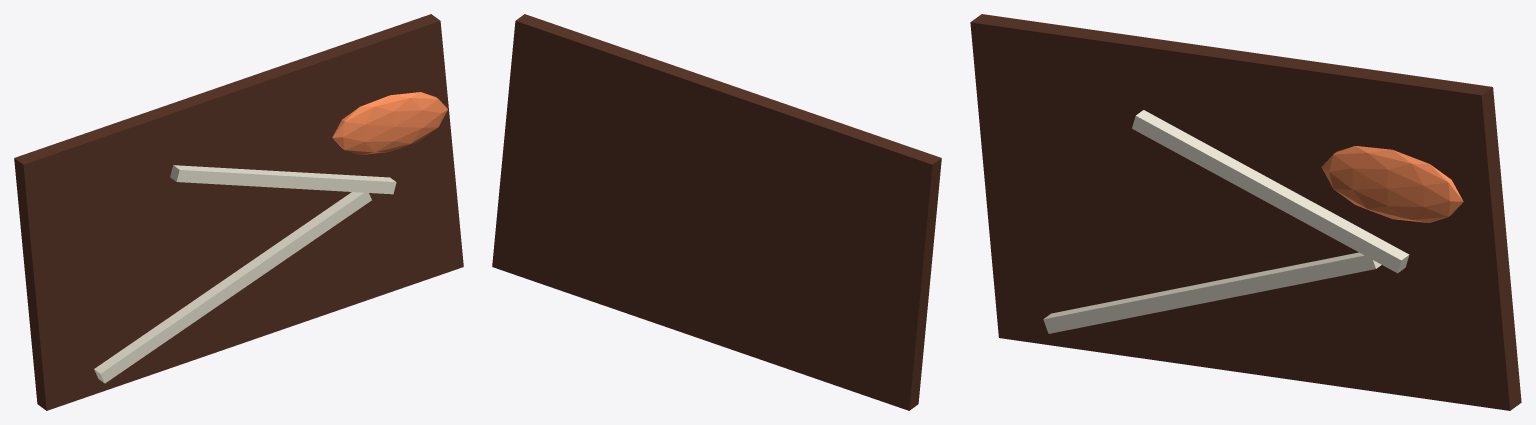
The model's file is 03_weathering_wear_overlay_3.glb.
3 renders of one model, left to right at view 1: azimuth 30°, elevation 25°; view 2: azimuth 150°, elevation 25°; view 3: azimuth 330°, elevation 25°, orthographic. The views are drawn at different scales.
Visible parts, largest first — view 1: wear_plate, scratch_a, rust_or_moss_spot, scratch_b; view 2: wear_plate; view 3: wear_plate, rust_or_moss_spot, scratch_b, scratch_a.
Part boxes in pixels (left/top/right/bottom): wear_plate: left=14, top=14, right=463, bottom=410; scratch_a: left=94, top=192, right=371, bottom=383; rust_or_moss_spot: left=332, top=92, right=447, bottom=154; scratch_b: left=170, top=165, right=396, bottom=194; wear_plate: left=492, top=14, right=941, bottom=410; wear_plate: left=970, top=14, right=1521, bottom=410; rust_or_moss_spot: left=1321, top=146, right=1463, bottom=222; scratch_b: left=1132, top=110, right=1409, bottom=273; scratch_a: left=1043, top=252, right=1381, bottom=333.
Size of the model in its own units: 1.37 by 0.8717 by 0.134.
